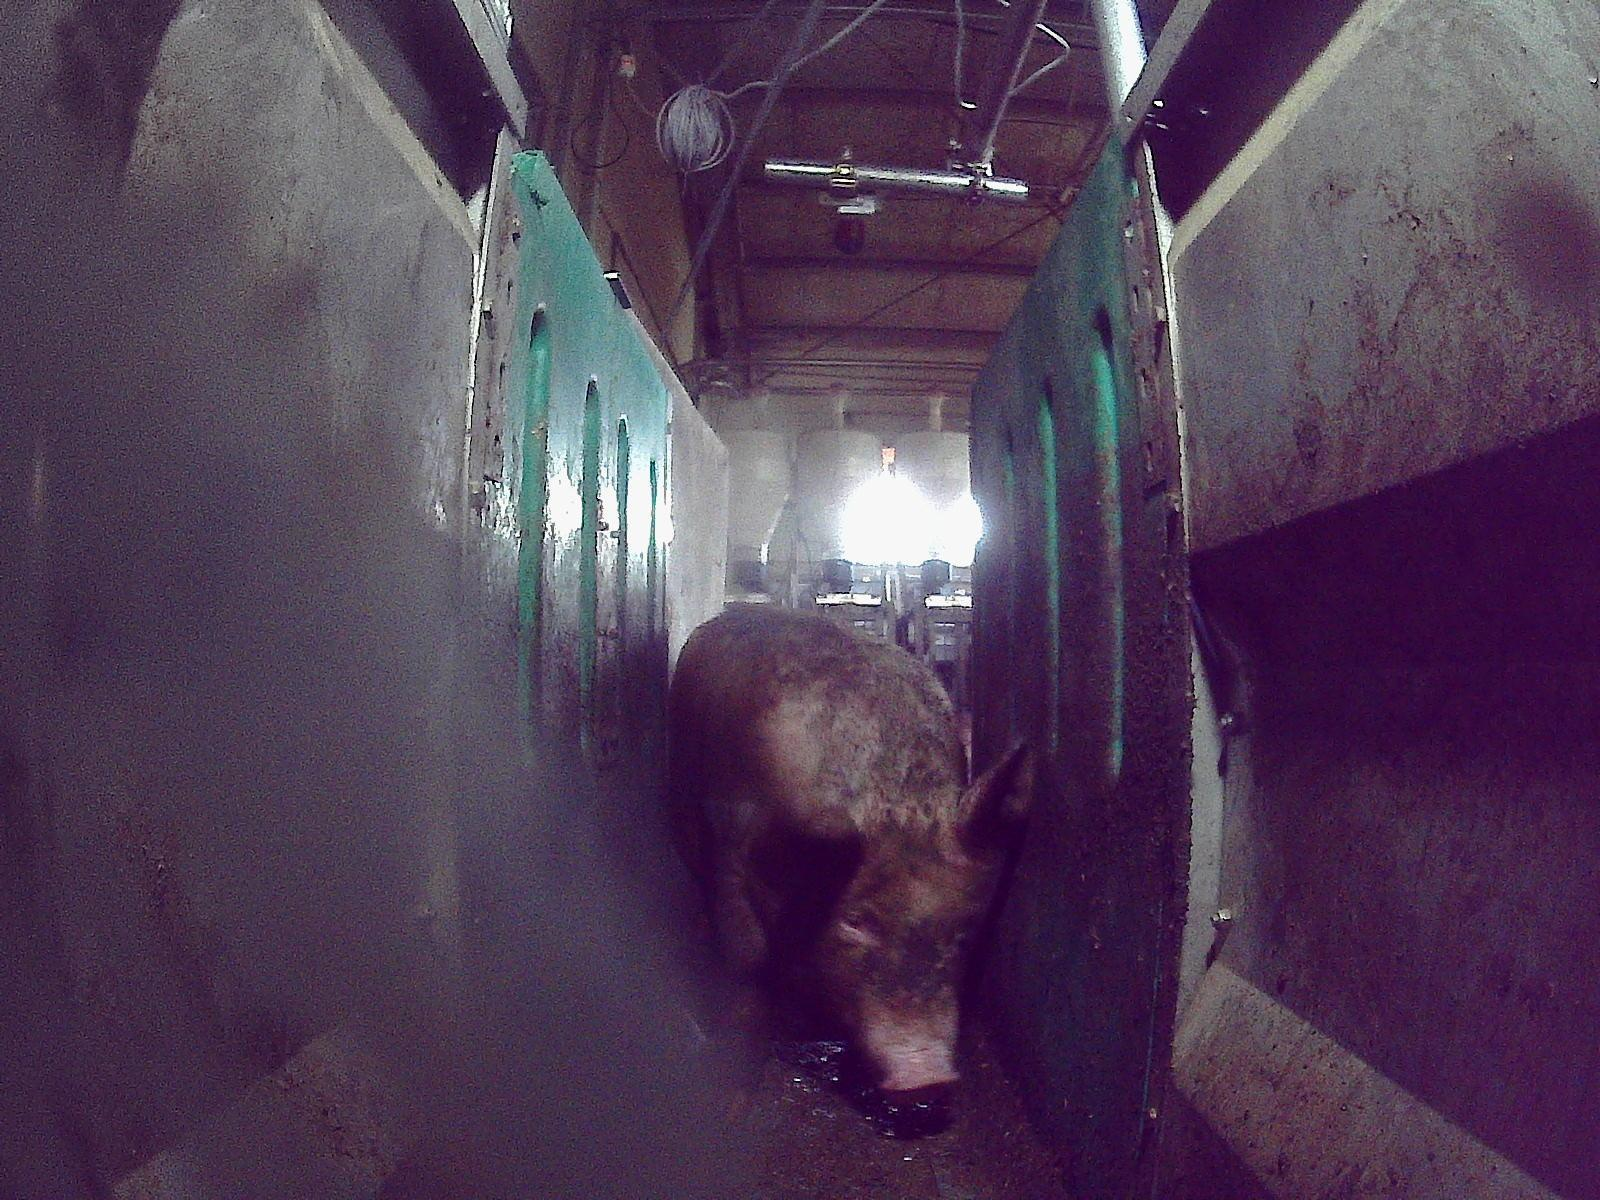Face: (817, 820, 981, 1102)
